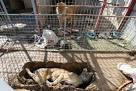lion: (55, 2, 76, 28)
